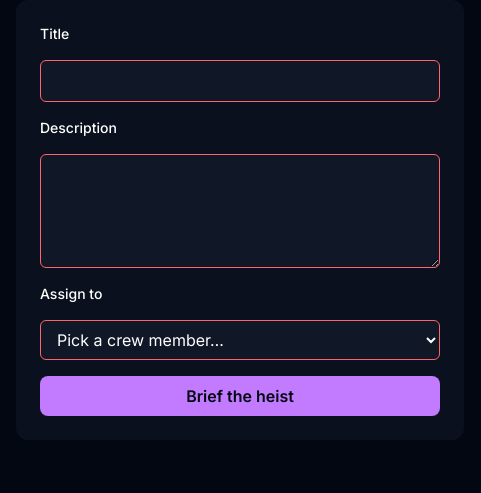
Test case: CreateHeistForm › shows an inline error and stays on the page when addDoc rejects
Type "Operation Stapler" into the field labelled "Title" at (240, 81), box [40,60,440,102]
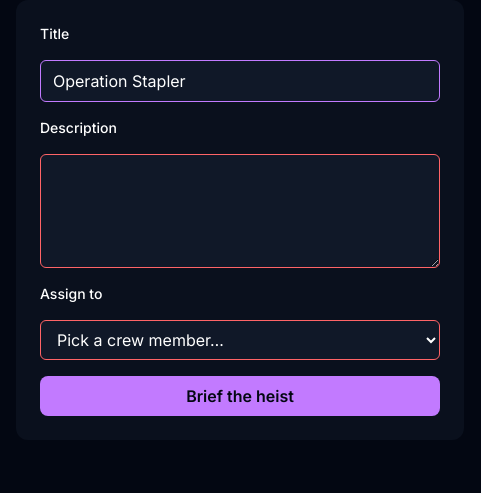
Type "Liberate one Swingline from the third-floor cubicle." into the text box labelled "Description" at (240, 211), box [40,154,440,268]
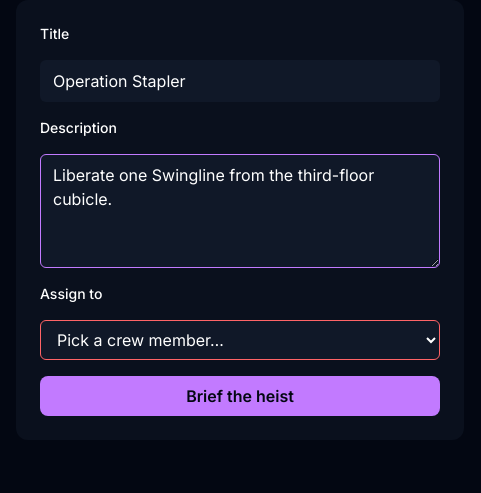
Select "BoldAzureBadger" in the dropdown labelled "Assign to" at (240, 340), box [40,320,440,360]
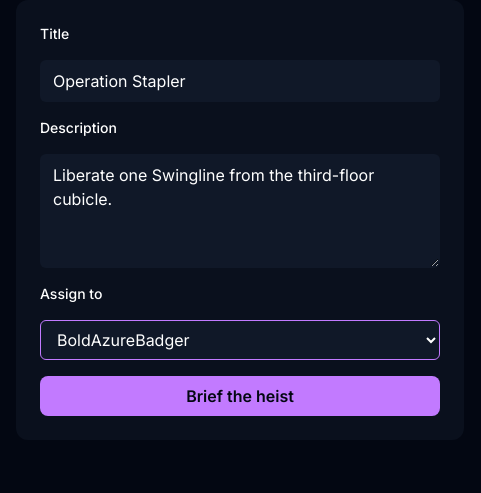
Click the button "Brief the heist" at (240, 396), box [40,376,440,416]
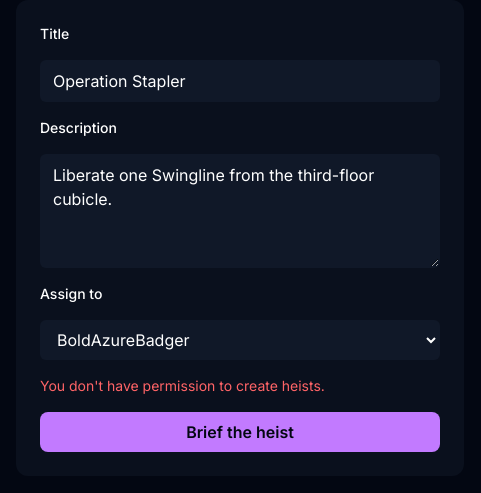
expect the message shows "don't have permission": met, box [40,377,325,394]
